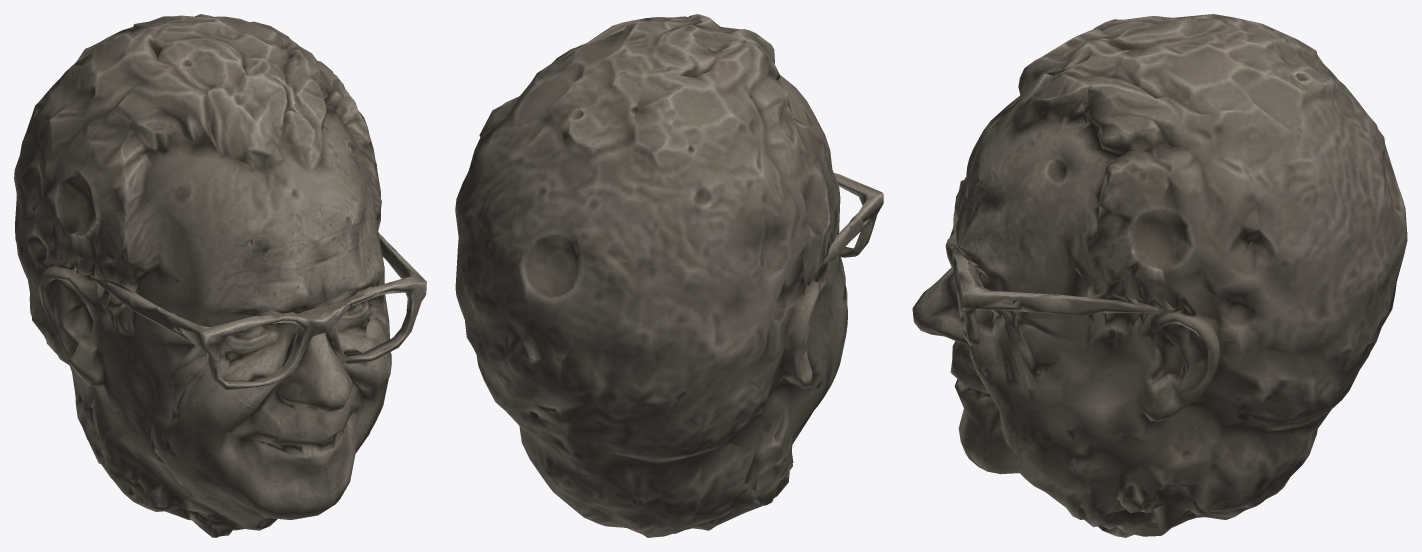
Rendered from Norton-low.glb.
3 renders of one model, left to right at view 1: azimuth 30°, elevation 25°; view 2: azimuth 150°, elevation 25°; view 3: azimuth 270°, elevation 25°, orthographic. The views are drawn at different scales.
Bounding box in the file's own units: 1.3 × 1.9 × 1.7.
1 material, 1 textured.
